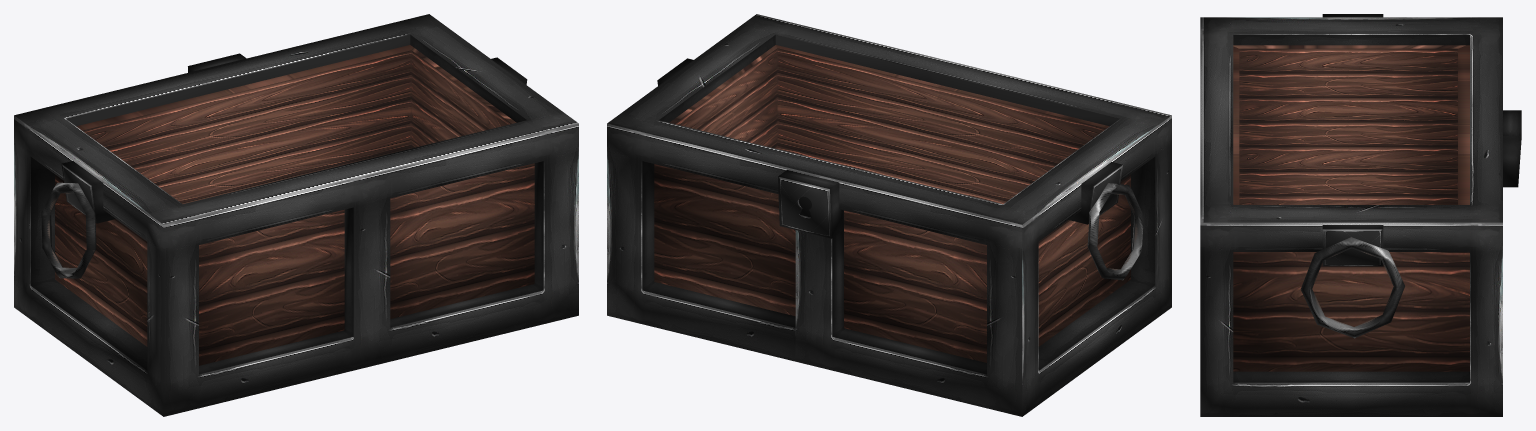
The model's file is trunkbottom.fbx.
3 views of the same model, side by side, from view 1: azimuth 30°, elevation 25°; view 2: azimuth 150°, elevation 25°; view 3: azimuth 270°, elevation 25° (orthographic).
Parts seen in each view (by area): view 1: Mesh; view 2: Mesh; view 3: Mesh.
Boxes of the visible parts, left/top/right/bottom form: Mesh: left=14, top=14, right=578, bottom=416; Mesh: left=607, top=14, right=1171, bottom=416; Mesh: left=1200, top=14, right=1521, bottom=416.
Size of the model in its own units: 13.54 by 5.23 by 7.84.
